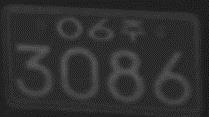0: (58, 45, 100, 100), (55, 16, 84, 41)
3: (14, 42, 52, 97)
6: (153, 49, 191, 106), (88, 16, 115, 42)
8: (106, 49, 146, 104)
주: (119, 17, 145, 41)
